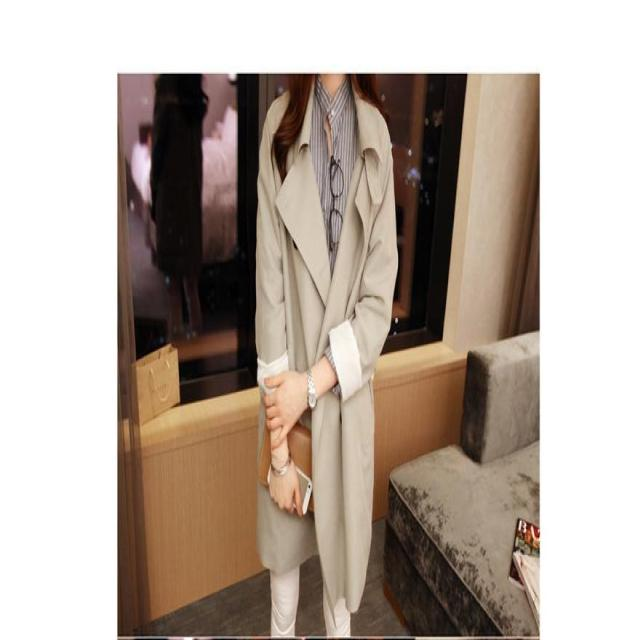long-sleeve-outwear: (249, 89, 403, 626)
